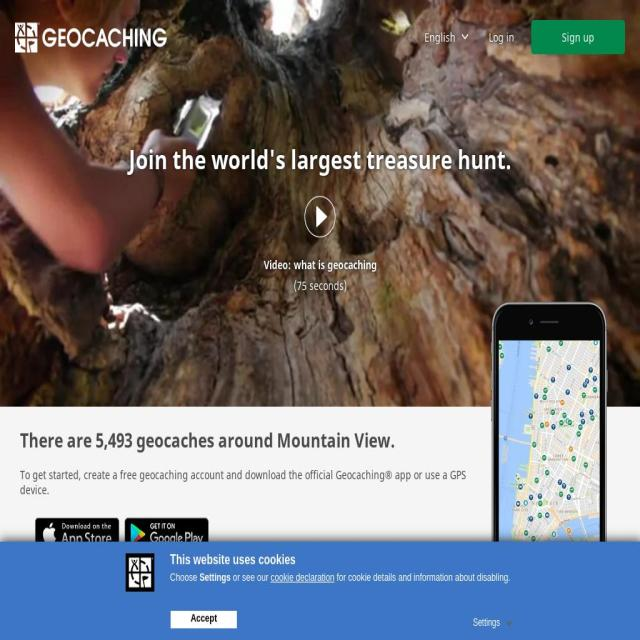button: (15, 22, 167, 52), (531, 20, 625, 54), (304, 195, 336, 237), (171, 611, 237, 628), (486, 25, 518, 49), (472, 611, 516, 628)
heading: (20, 616, 620, 640), (129, 141, 511, 176), (20, 426, 395, 453), (170, 553, 515, 567)
image: (0, 0, 640, 482), (479, 302, 620, 620), (498, 340, 601, 580), (15, 22, 167, 52), (124, 517, 209, 551), (35, 517, 119, 551), (304, 195, 336, 237), (126, 553, 154, 592), (461, 30, 469, 42)
link: (271, 572, 335, 583)
text: (20, 468, 479, 498), (129, 276, 511, 294), (129, 256, 511, 272), (334, 572, 512, 583), (424, 28, 458, 45), (231, 572, 271, 583), (200, 572, 232, 583), (170, 572, 199, 583)
